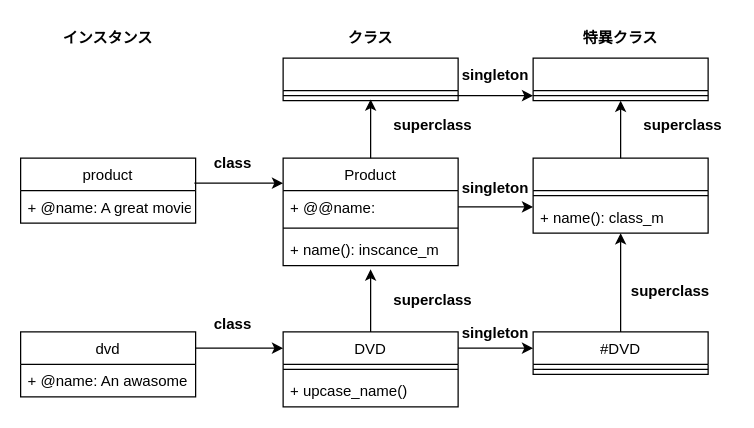
Image size: 754x428. Some labels were removed from this diagram. The shapes that lost their labels are listed below. From the top down, each one's box as (x1, y1, x2, y2) in pixels, then its label:
(282, 57, 458, 101): Object
(532, 57, 708, 101): #Object
(532, 157, 708, 233): #Product
